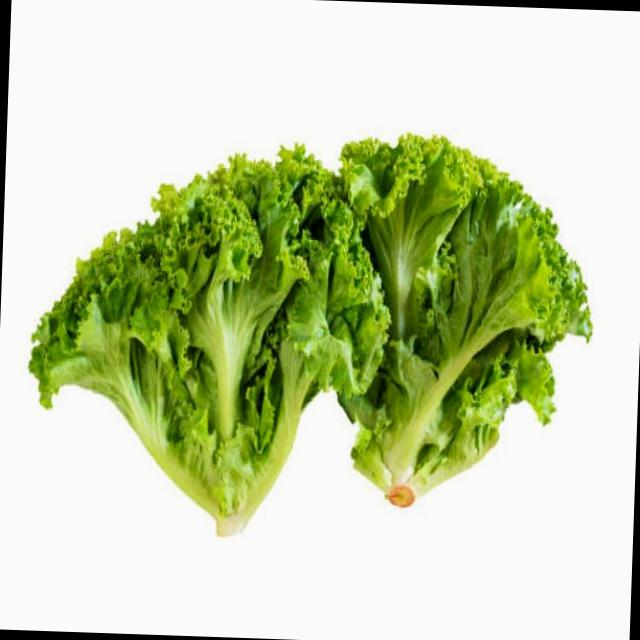Lettuce-Ready-to-Harvest: (29, 147, 387, 534), (340, 134, 590, 505)
